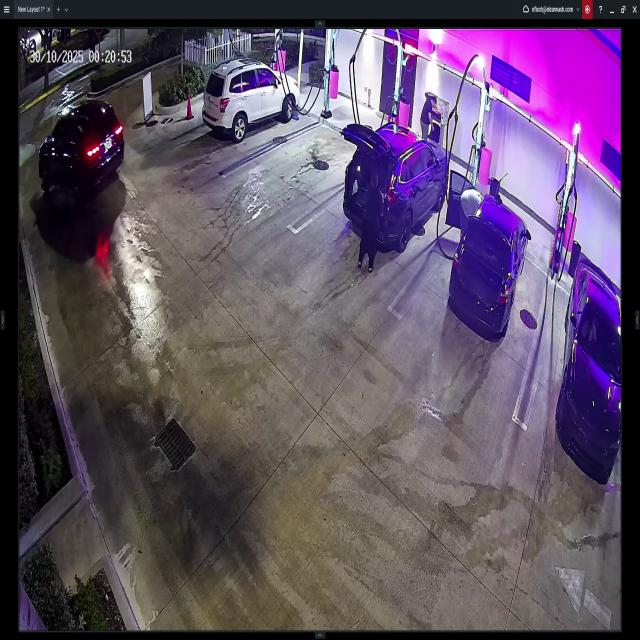Car: (556, 256, 621, 482), (450, 164, 531, 342), (340, 121, 448, 253), (204, 58, 298, 143), (38, 104, 124, 192)
